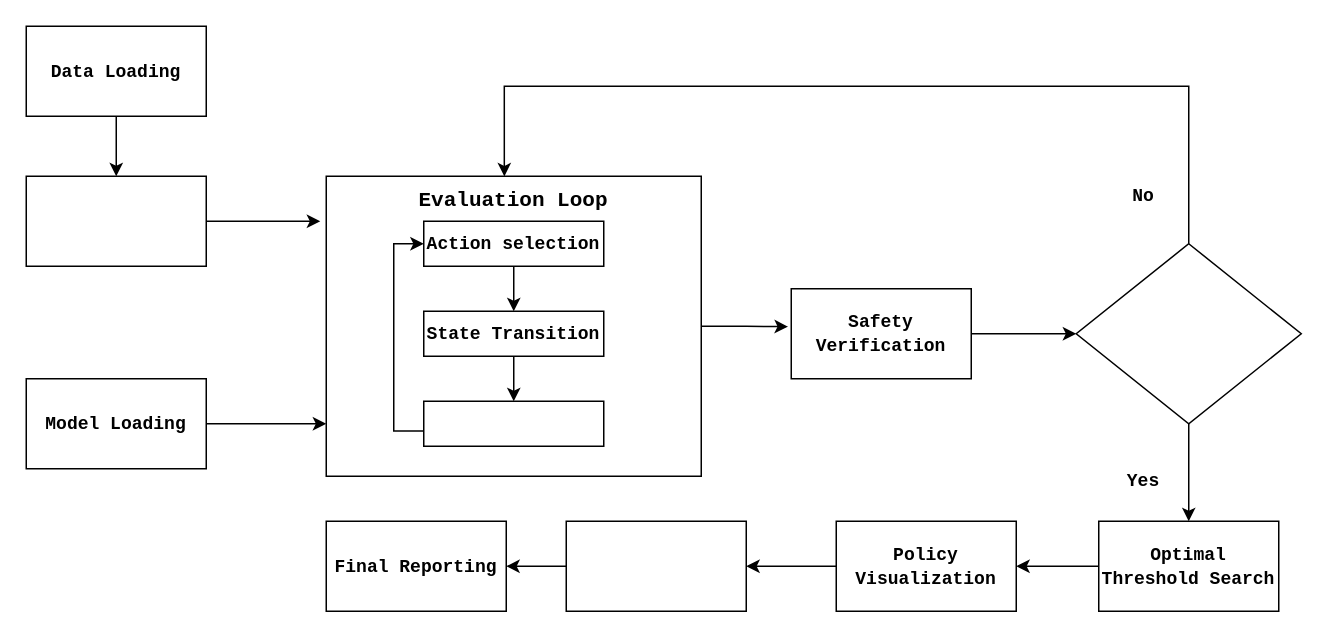
Image size: 1328x638. Some labels were removed from this diagram. Each missing label, with the centre of its shape:
Metrics Logging: point 655,565
Reward Calculation: point 513,423
Safety Condition Met?: point 1188,333
State Initialization: point 115,220
